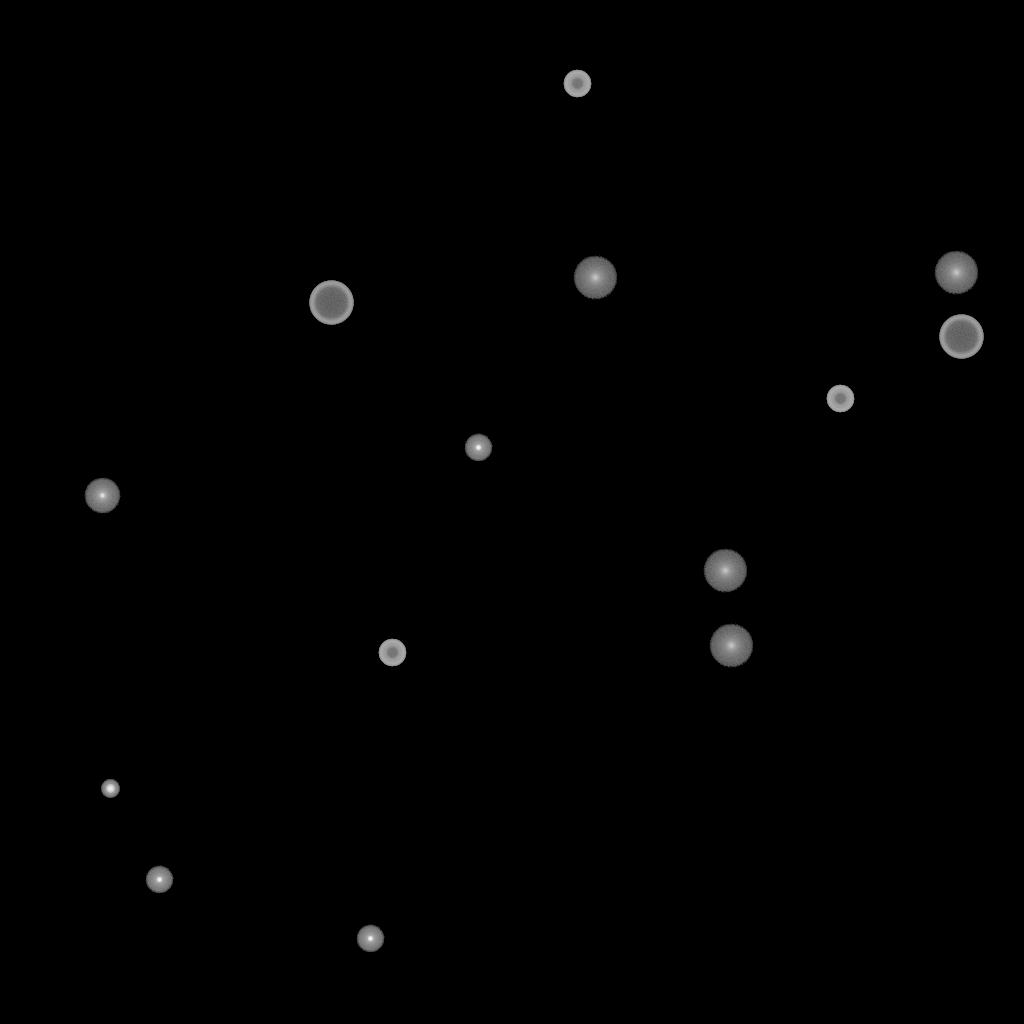depth:-10: (145, 866, 173, 894), (356, 925, 384, 953), (464, 434, 492, 462)
depth:-20: (101, 780, 119, 798)
depth:-50: (378, 639, 406, 667), (826, 385, 854, 413), (563, 70, 591, 98)
depth:-70: (939, 315, 983, 359), (309, 281, 353, 325)
depth:0: (84, 478, 120, 514)
depth:10: (709, 624, 753, 668), (934, 251, 978, 295), (573, 256, 617, 300), (703, 549, 747, 593)
